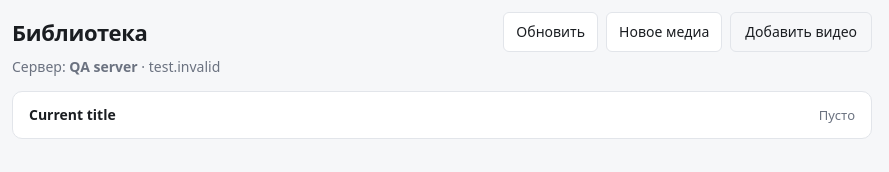
Scenario: T657 — only the latest answer is shown › an event's answer overtaken by a refresh is not shown
expect the text "Current title" is shown: met, box [29,104,116,126]
What coordinates should you click on to do the following:
click the button "Обновить"
I would click on:
 (551, 32)
Its box is [503,12,598,52].
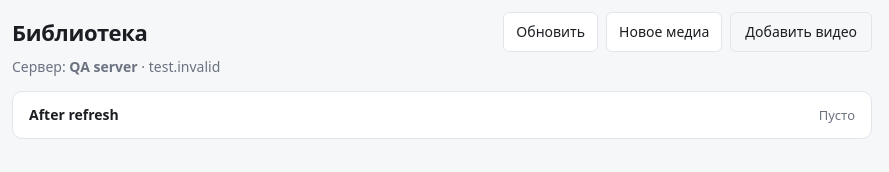
expect the text "After refresh" is shown: met, box [29,104,119,126]
